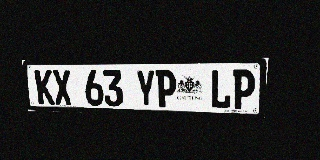3: (103, 70, 123, 106)
6: (84, 70, 104, 106)
K: (34, 70, 55, 105)
L: (210, 70, 232, 109)
P: (232, 70, 256, 109), (156, 70, 176, 108)
X: (52, 70, 73, 105)
Y: (135, 70, 156, 107)
